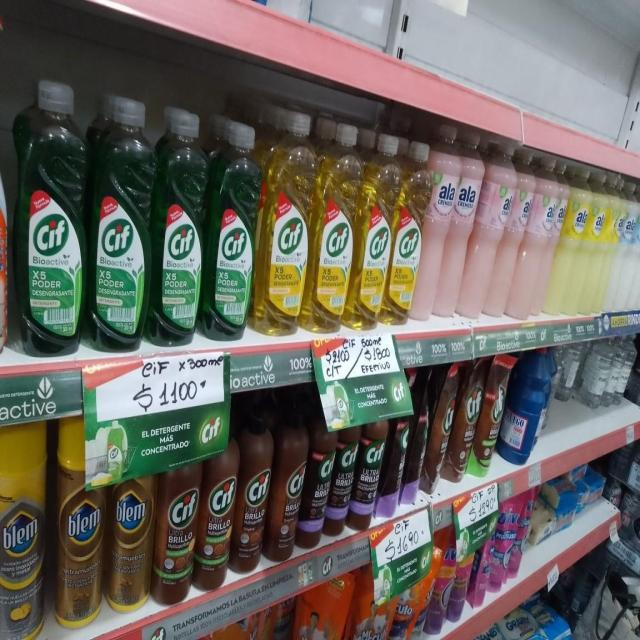ala_crem_amarillo: (553, 165, 587, 318), (586, 171, 611, 316)
ala_crem_blanco: (609, 179, 634, 314), (631, 186, 640, 311)
ala_crem_rosado: (472, 138, 515, 322), (420, 121, 454, 323), (515, 151, 555, 322), (450, 128, 476, 322)
cif_conc_bot_amarilla: (258, 109, 310, 339), (312, 118, 354, 335), (356, 129, 390, 332), (390, 136, 420, 328)
cif_conc_botella_verde: (16, 76, 87, 356), (90, 94, 150, 351), (152, 106, 203, 346), (205, 117, 256, 341), (0, 78, 11, 364)
